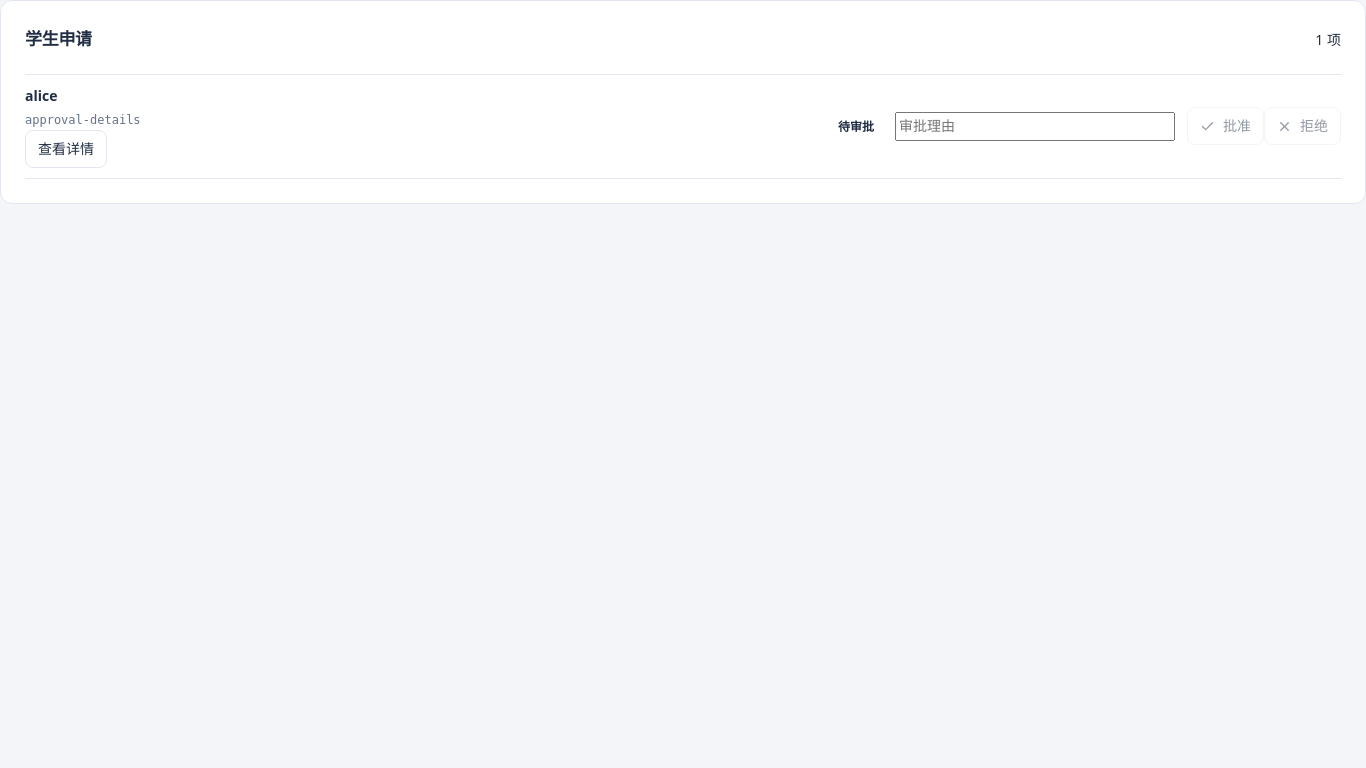
Test: teacher sees the same requested configuration before deciding an assigned student's request
Click the button with aria-label "查看申请详情 approval-details" at (66, 149), box [25, 130, 107, 168]
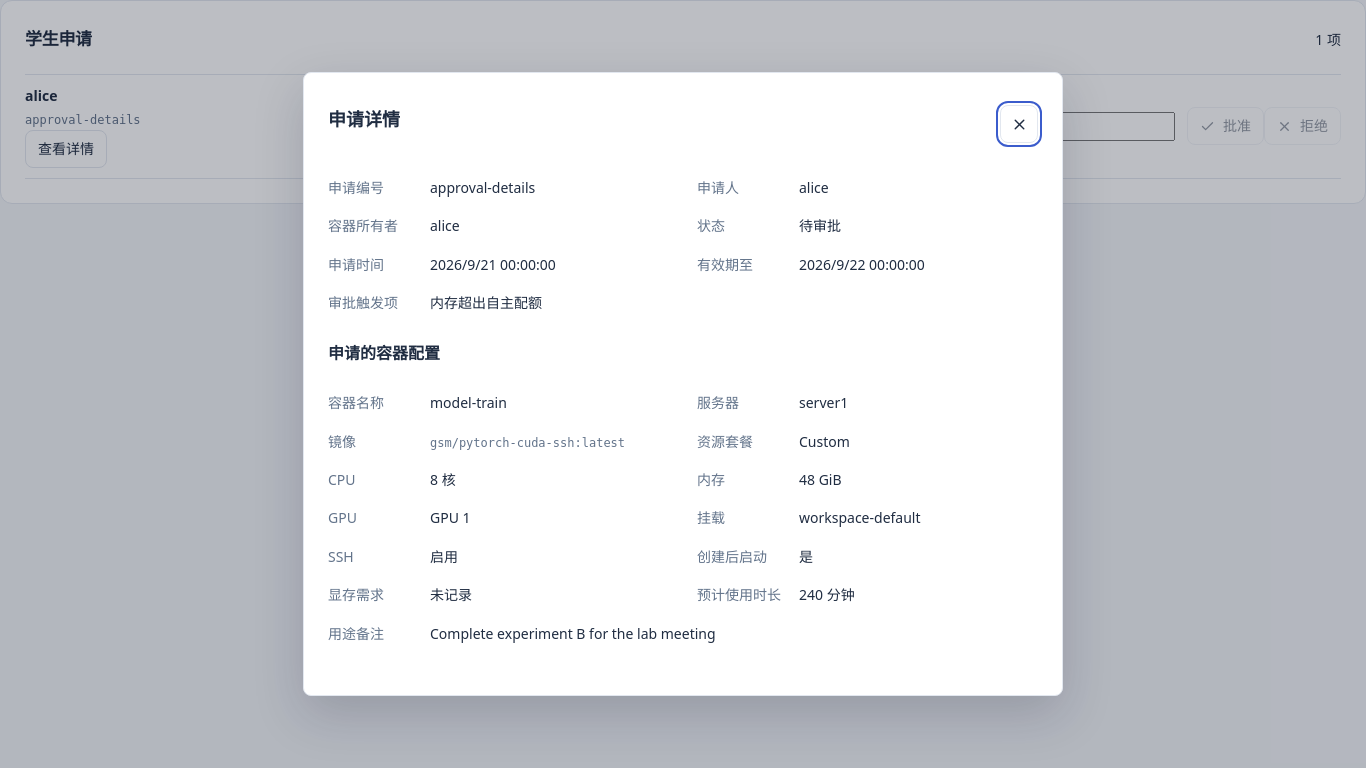
Now the text "48 GiB" is shown, box [799, 470, 842, 489]
Now the text "Complete experiment B for the lab meeting" is shown, box [430, 624, 716, 642]
